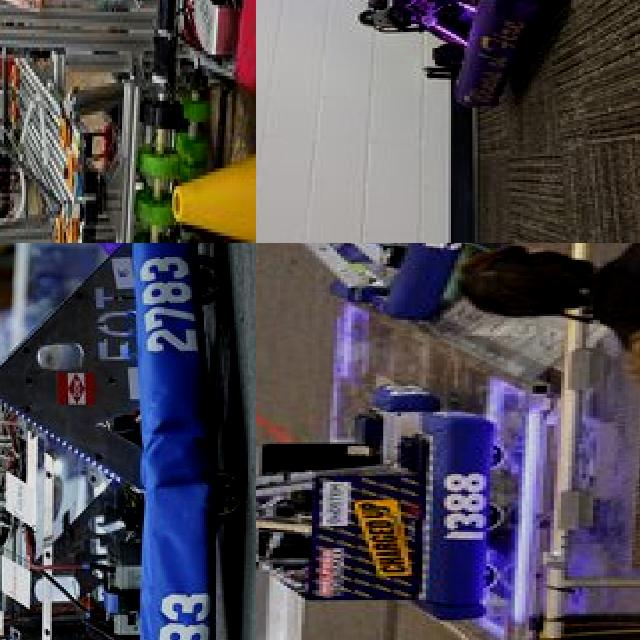FRC-Robots: (0, 243, 235, 640), (0, 0, 256, 243), (256, 380, 499, 628), (256, 0, 545, 129), (256, 243, 518, 325)
